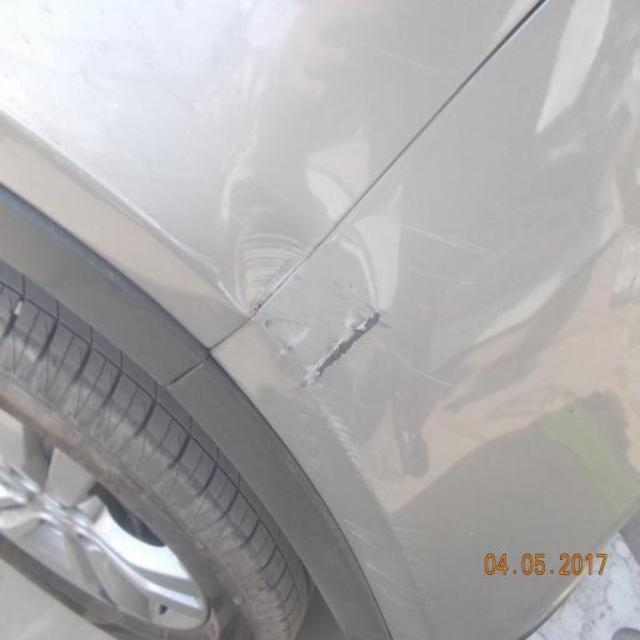crack: (301, 306, 394, 387)
rub: (322, 404, 453, 620), (239, 227, 308, 316)
